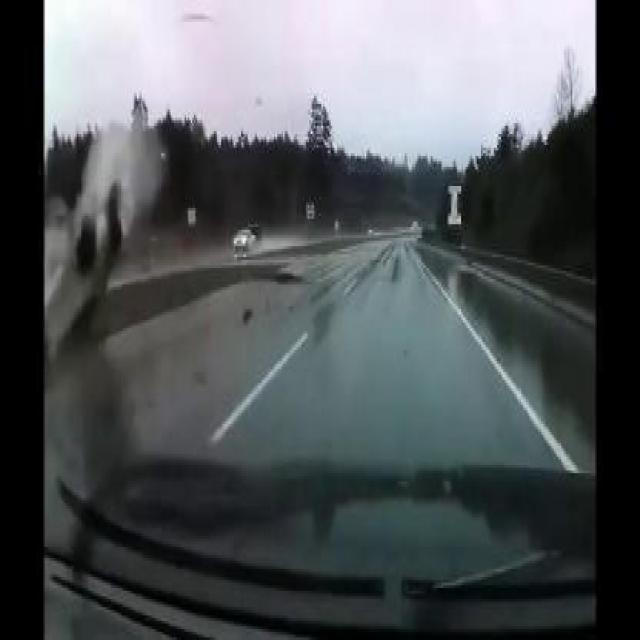accident: (43, 174, 132, 384)
